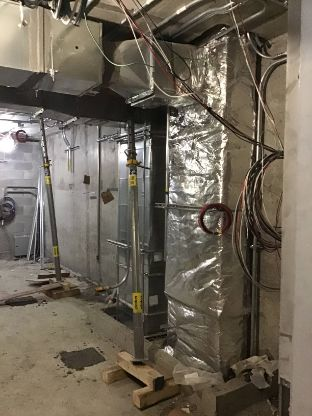Duct: (156, 25, 261, 378), (1, 1, 188, 115), (105, 117, 169, 338)
